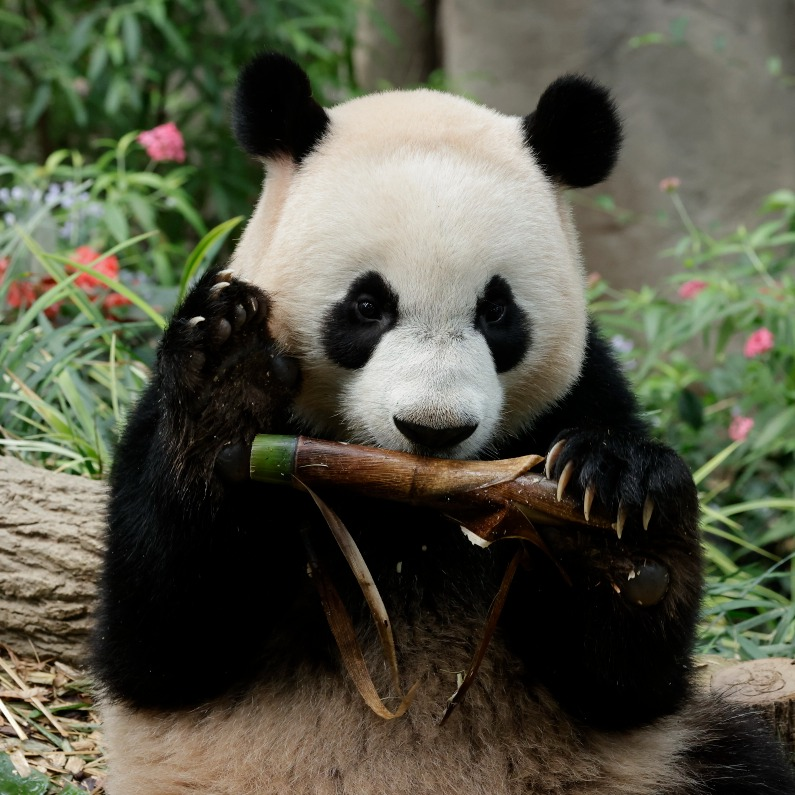Giant panda: (228, 47, 624, 462)
